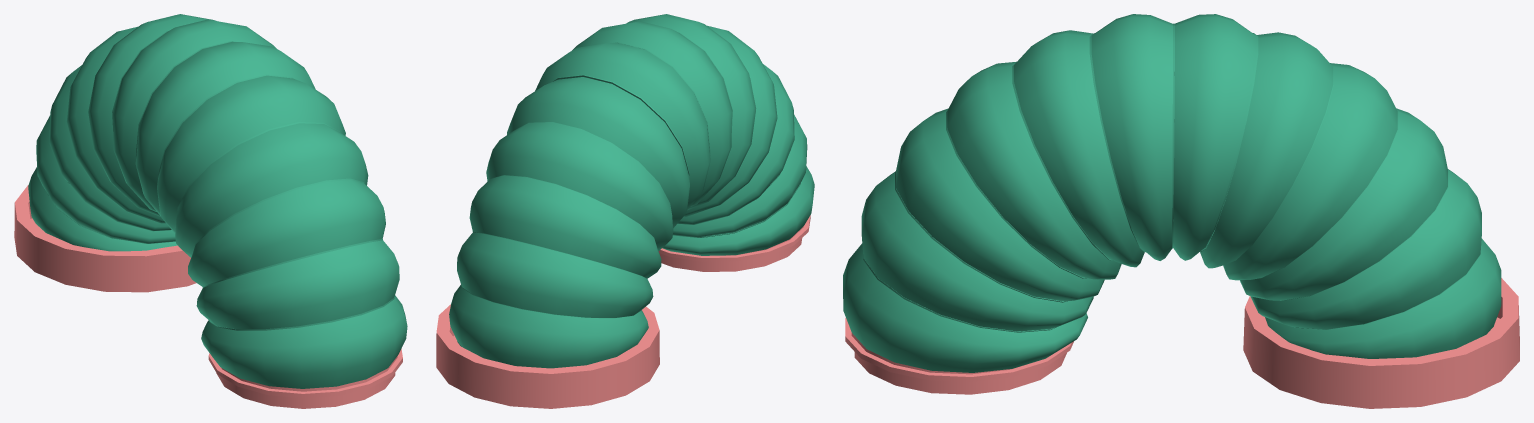
3 renders of one model, left to right at view 1: azimuth 30°, elevation 25°; view 2: azimuth 150°, elevation 25°; view 3: azimuth 270°, elevation 25°, orthographic. The views are drawn at different scales.
Parts seen in each view (by area): view 1: 180Tube; view 2: 180Tube; view 3: 180Tube.
Part boxes in pixels (box(x1,y1,x2,y2)): 180Tube: box(14, 14, 407, 408); 180Tube: box(436, 14, 814, 408); 180Tube: box(843, 14, 1519, 408).
Bounding box in the file's own units: 56.45 × 72.56 × 138.
